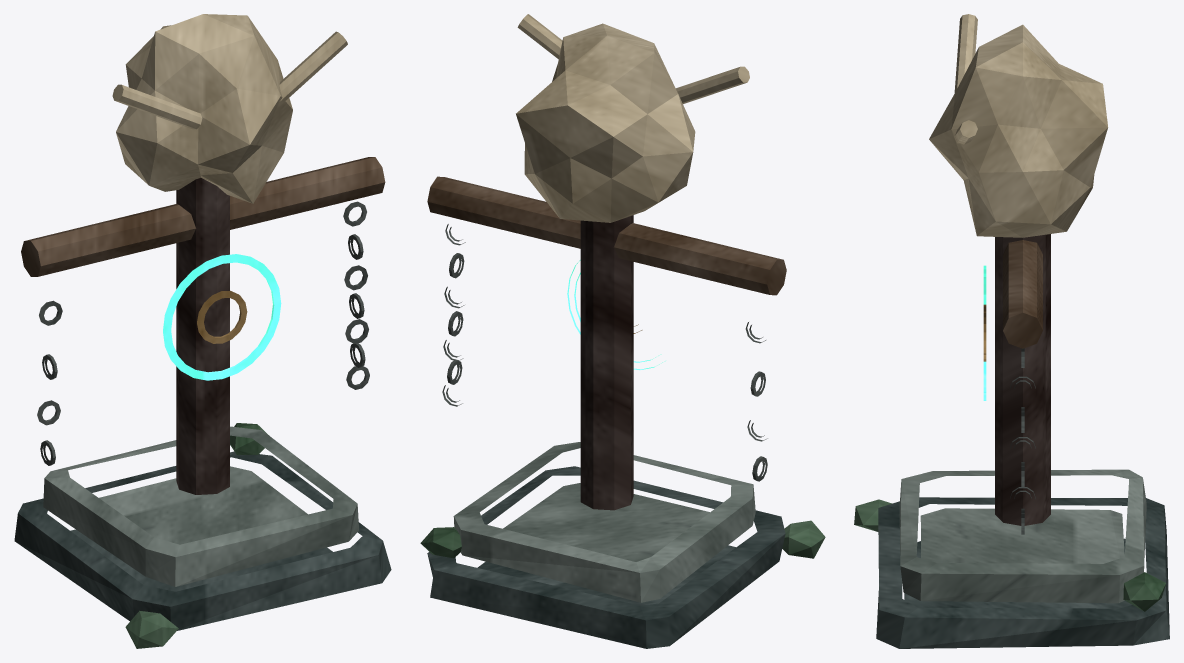
The model's file is 0512_effigy_12.glb.
3 renders of one model, left to right at view 1: azimuth 30°, elevation 25°; view 2: azimuth 150°, elevation 25°; view 3: azimuth 270°, elevation 25°, orthographic.
Parts seen in each view (by area): view 1: bone, stone, stone_dark, wood_dark, wood, iron, glow, moss, brass; view 2: bone, stone, stone_dark, wood_dark, wood, moss, iron; view 3: bone, stone, stone_dark, wood_dark, wood, moss, iron.
Boxes of the visible parts, x1,y1,x2,y2 form: bone: (112,14,347,203); stone: (43,426,358,586); stone_dark: (14,451,391,630); wood_dark: (176,178,229,494); wood: (21,157,385,276); iron: (37,201,369,465); glow: (163,254,281,380); moss: (125,423,269,648); brass: (197,290,247,343); bone: (516,14,749,222); stone: (453,442,755,602); stone_dark: (427,466,785,648); wood_dark: (580,215,633,510); wood: (427,176,786,295); moss: (420,520,825,558); iron: (442,224,767,481); bone: (929,14,1108,237); stone: (899,469,1146,603); stone_dark: (876,497,1169,648); wood_dark: (995,234,1050,525); wood: (1003,240,1042,348); moss: (854,499,1166,611); iron: (1010,348,1035,534).
Size of the model in its own units: 2 by 3.05 by 1.58.
9 materials, 9 textured.
